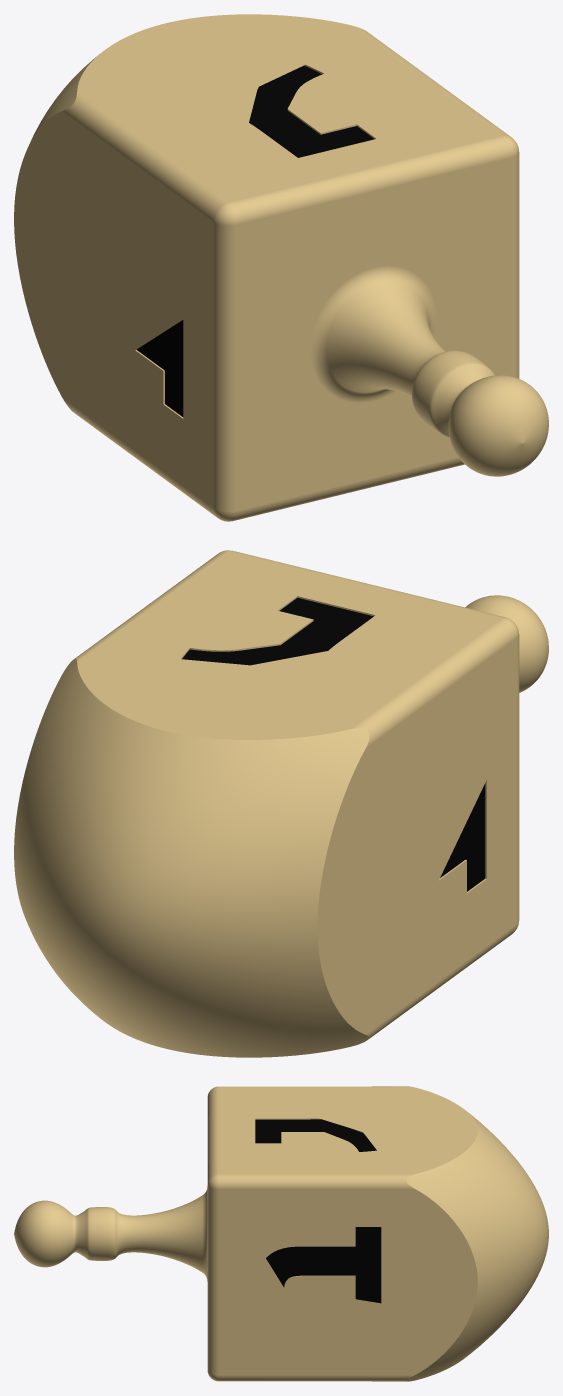
File: d4drey.fbx
3 renders of one model, top to bottom at view 1: azimuth 30°, elevation 25°; view 2: azimuth 150°, elevation 25°; view 3: azimuth 270°, elevation 25°, orthographic. The views are drawn at different scales.
Parts seen in each view (by area): view 1: d4drey; view 2: d4drey; view 3: d4drey.
Part boxes in pixels (bbox=[...]): d4drey: bbox=[14, 14, 548, 521]; d4drey: bbox=[14, 550, 548, 1057]; d4drey: bbox=[14, 1086, 548, 1381].
Size of the model in its own units: 200 by 200 by 470.
